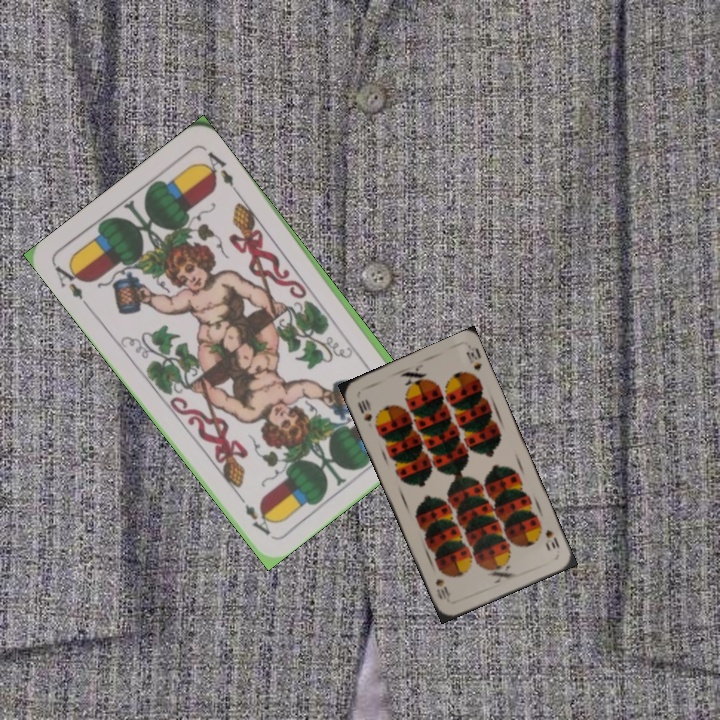EA: (50, 259, 92, 310)
S10: (353, 395, 375, 424), (541, 526, 562, 552)
